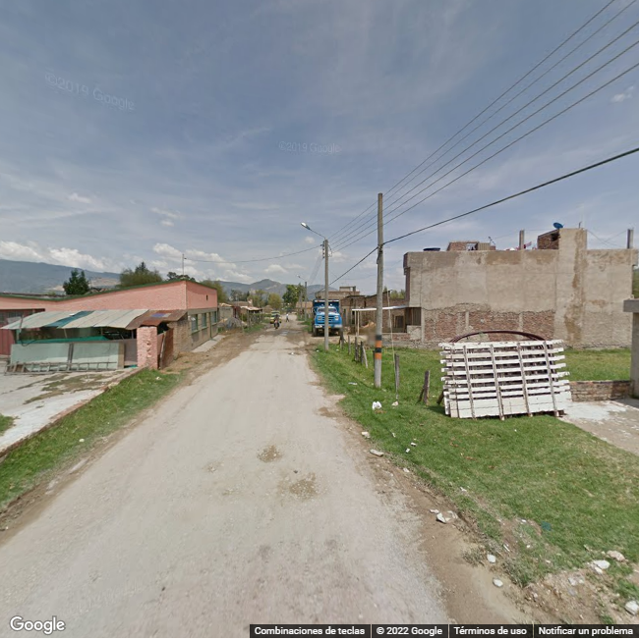D40: (289, 471, 320, 503), (256, 442, 277, 465)
